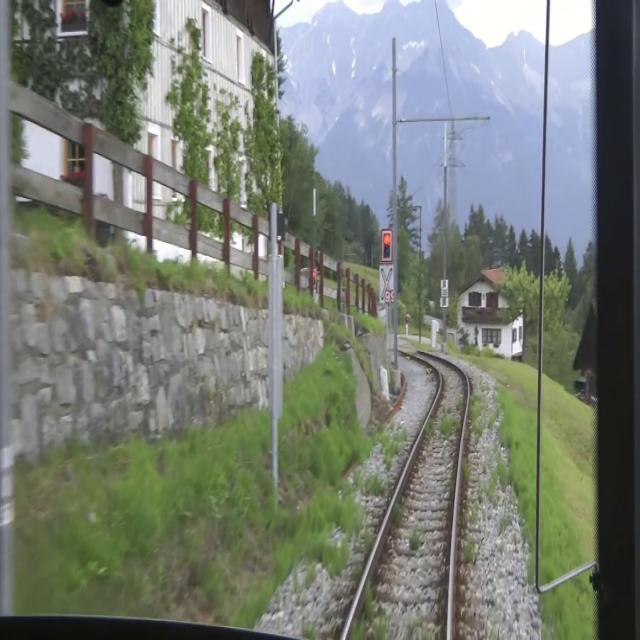rail-track: (345, 355, 466, 639)
